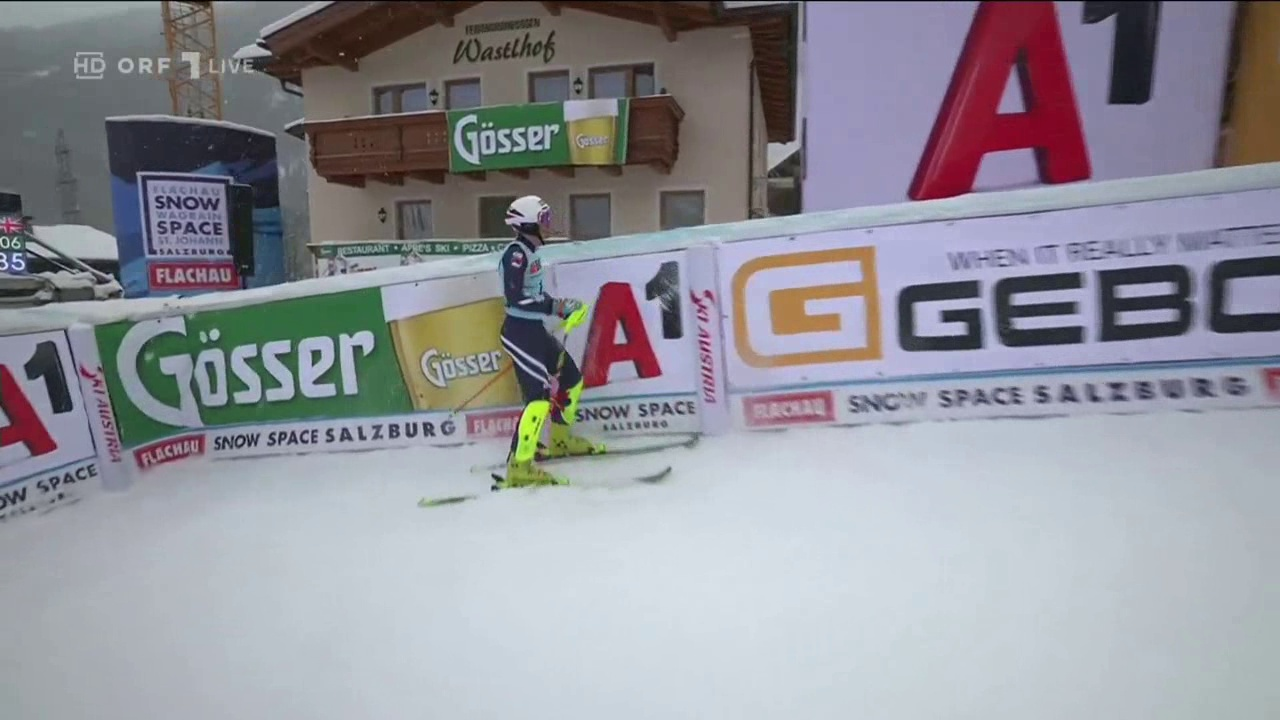a1: (888, 1, 1213, 188), (579, 270, 685, 388), (1, 347, 78, 471)
flachau: (742, 392, 839, 431)
goesser: (113, 301, 405, 413), (452, 109, 568, 166), (418, 340, 510, 391), (573, 123, 616, 154)
